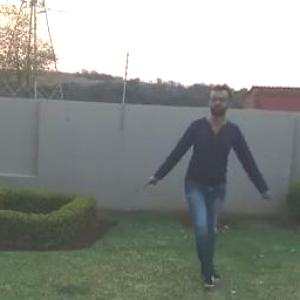land: (151, 77, 290, 299)
